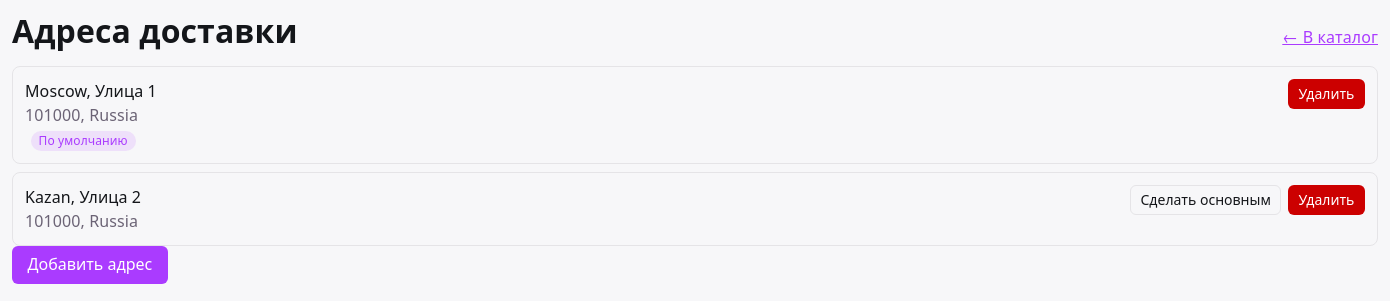
Test: AddressesPage › во время смены дефолта кнопки карточки disabled
Expected: the text "Moscow, Улица 1" is shown, 25,79 -> 157,103
Click the button "Сделать основным" at (1206, 200), box 1130,185 -> 1281,215
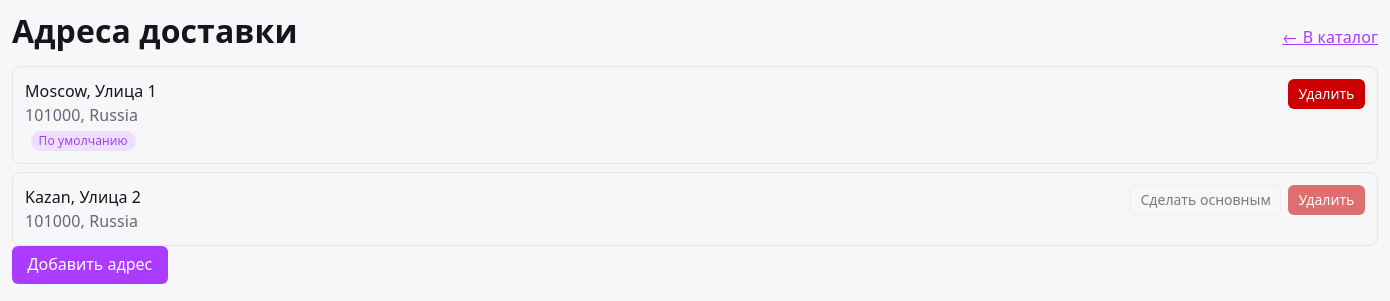
Now the button "Сделать основным" is disabled, box 1130,185 -> 1281,215
Now the button "Удалить" in the row of "Улица 2" is disabled, box 1288,185 -> 1365,215
